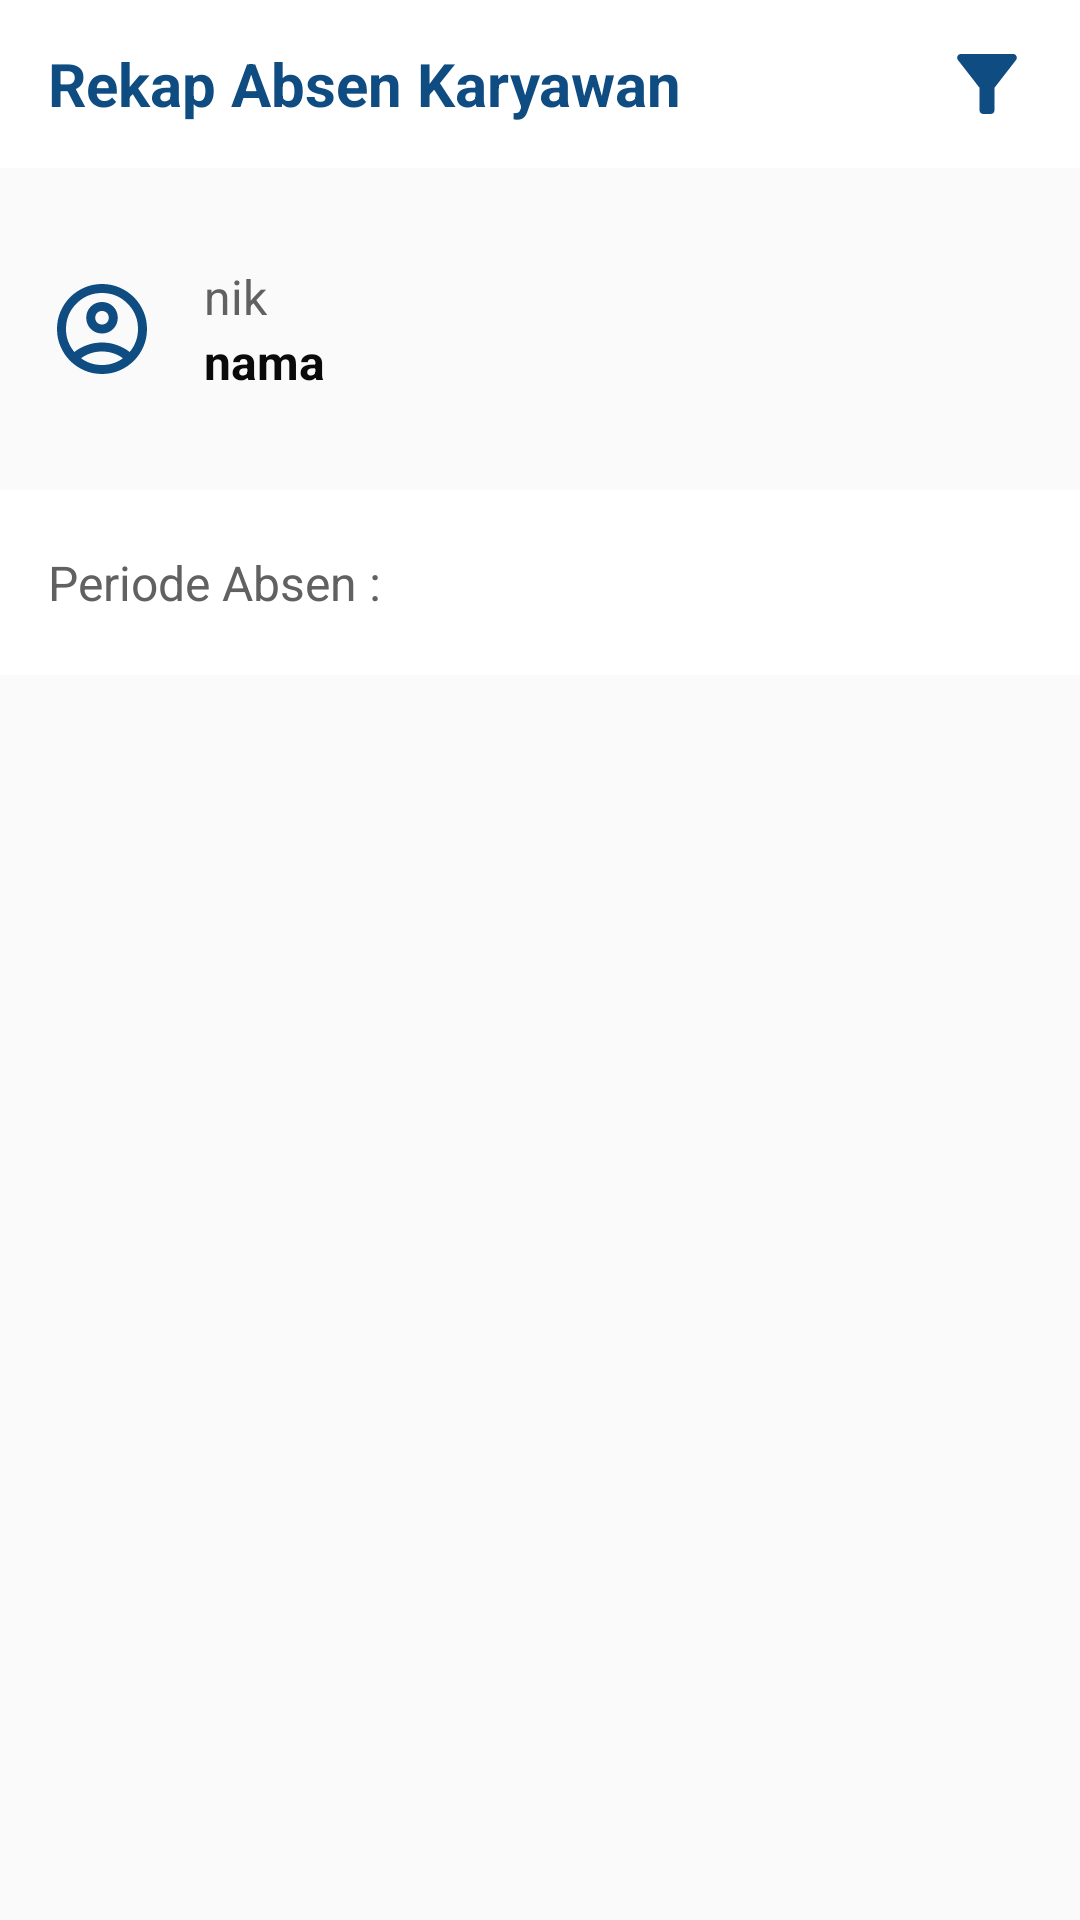

Screen size 1080x1920. Icon name, then its center in pixels as point (x, y):
account: point (102, 329)
filter: point (987, 84)
